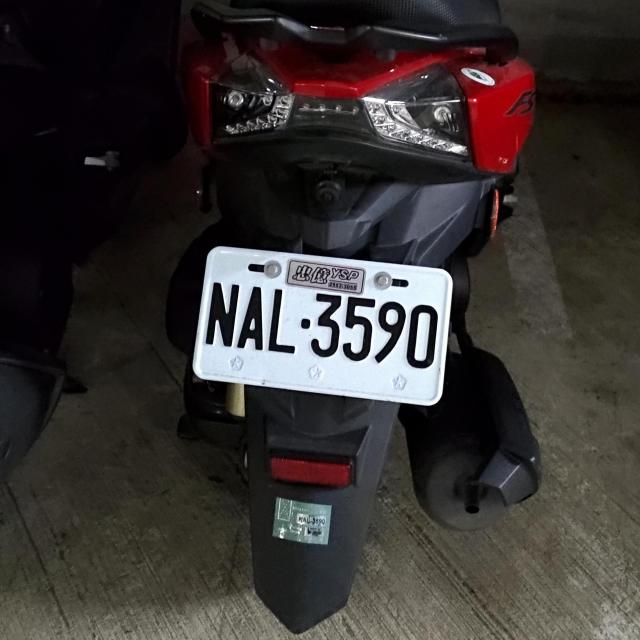W: (192, 242, 456, 406)
